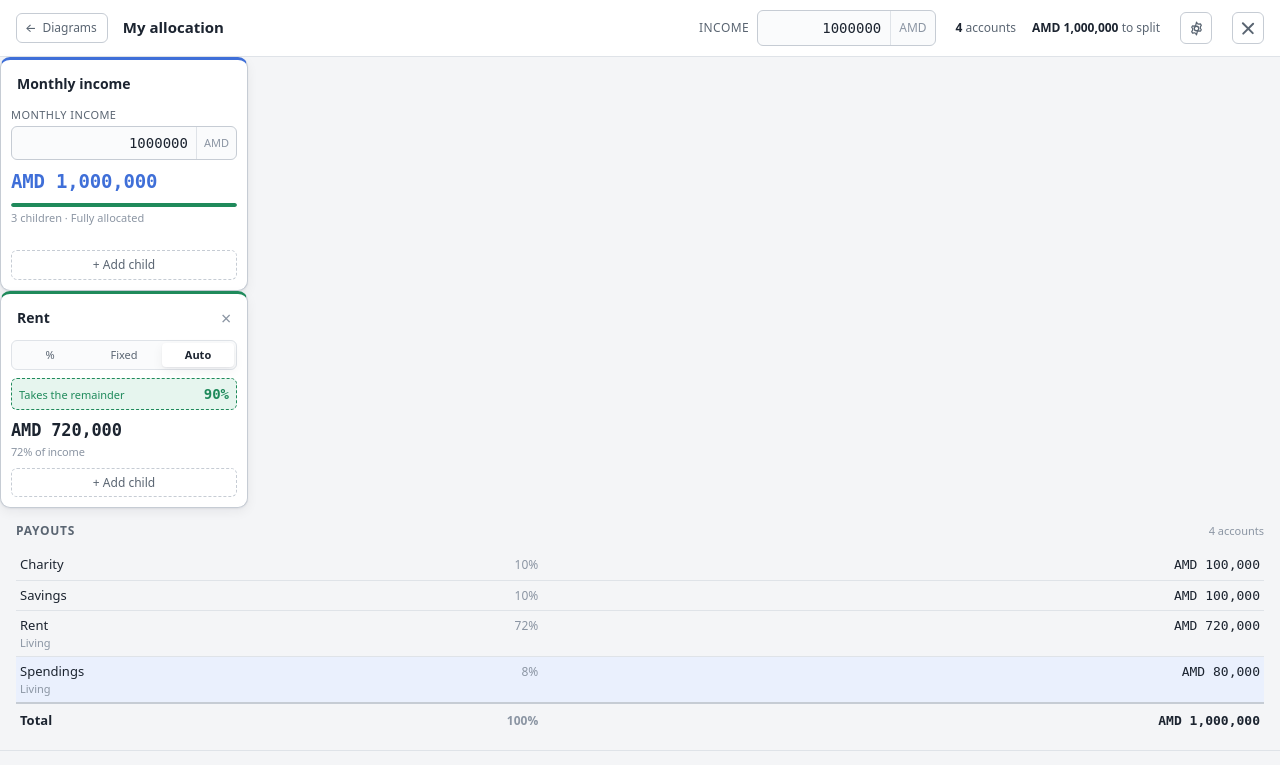
Test case: the brief, end to end › adds a fixed 300,000 child and routes the remainder to its auto sibling
Click the button "Fixed": click(124, 355) [88,343,160,367]
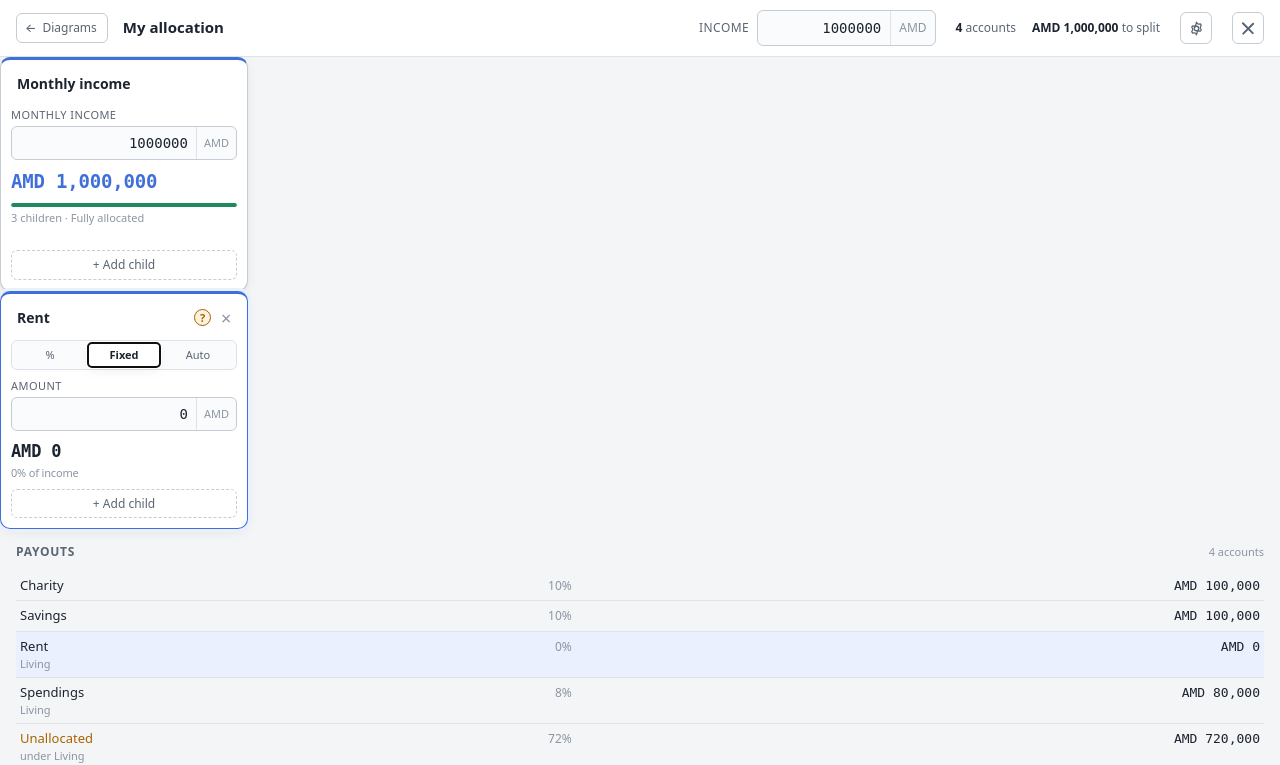
In the field named "Fixed amount": (104, 414) [12,398,196,430], type "300000"
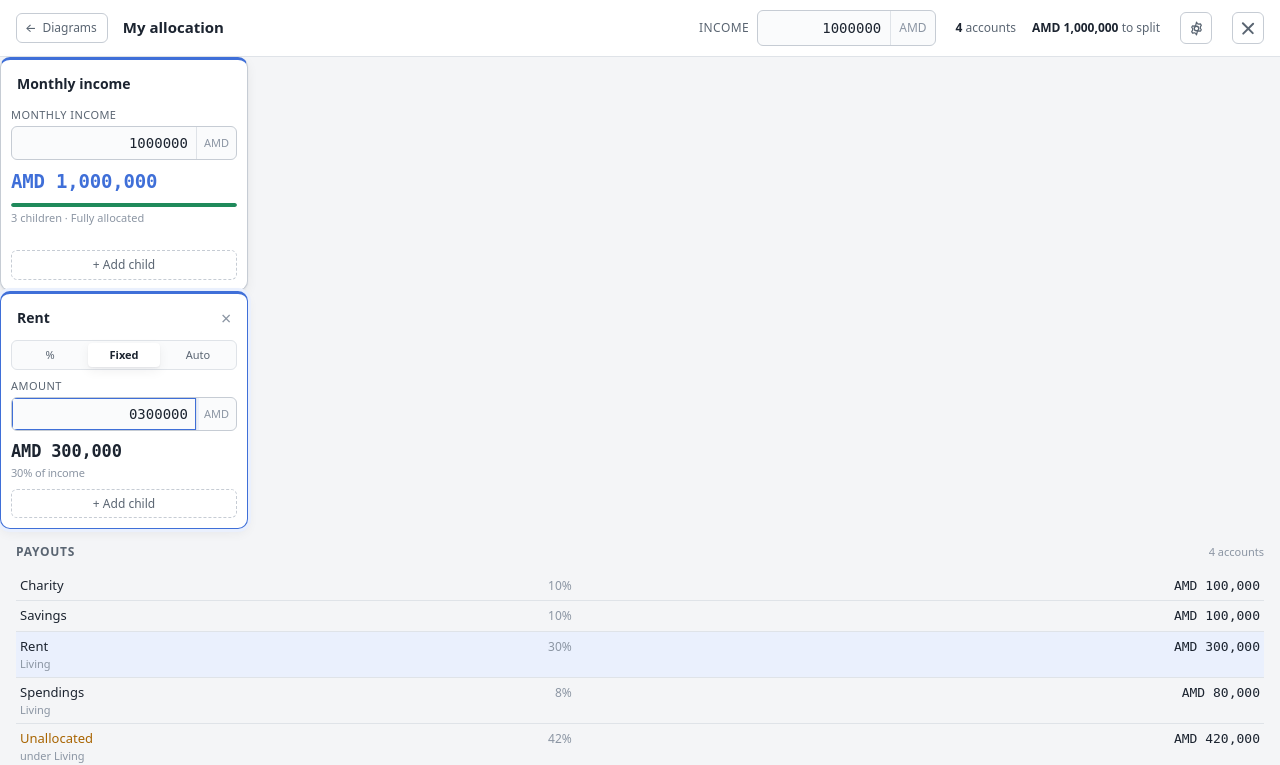
Expected: the text "AMD 80,000" is shown, [576,678,1264,723]
Now the text "Unallocated" is shown, box [20,729,93,747]
Now the text "AMD 300,000" is shown, box [576,632,1264,678]
